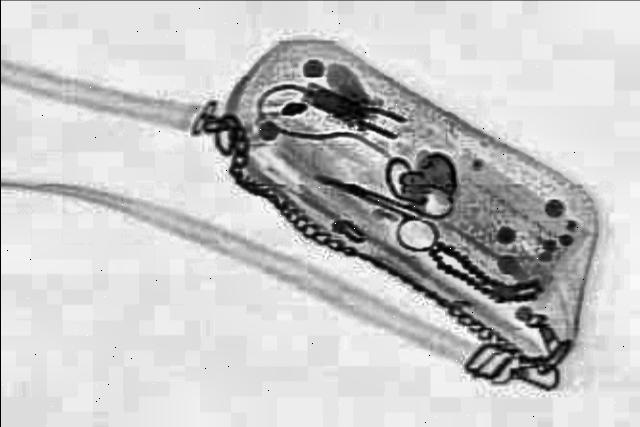Scissors: (292, 160, 472, 258)
